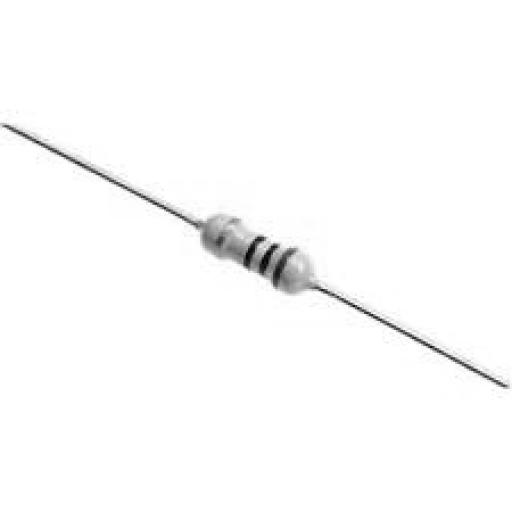RESISTOR: (150, 176, 370, 334)
